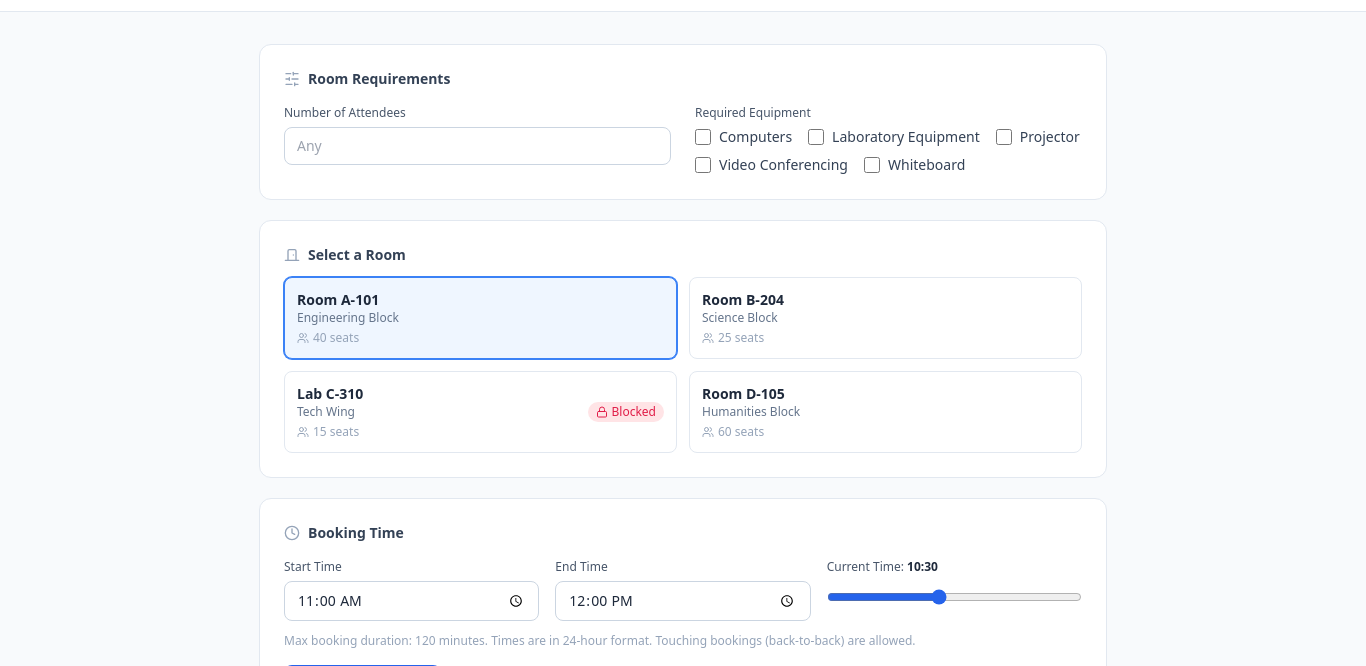
Test: App availability UI › U01 — filtering by 20 attendees and Whiteboard, then choosing Room B-204, shows it available for 11:00–12:00
This screenshot has width=1366, height=666.
Type "20" into the number field labelled "Number of Attendees" at (478, 146), box x1=284 y1=127 x2=671 y2=165
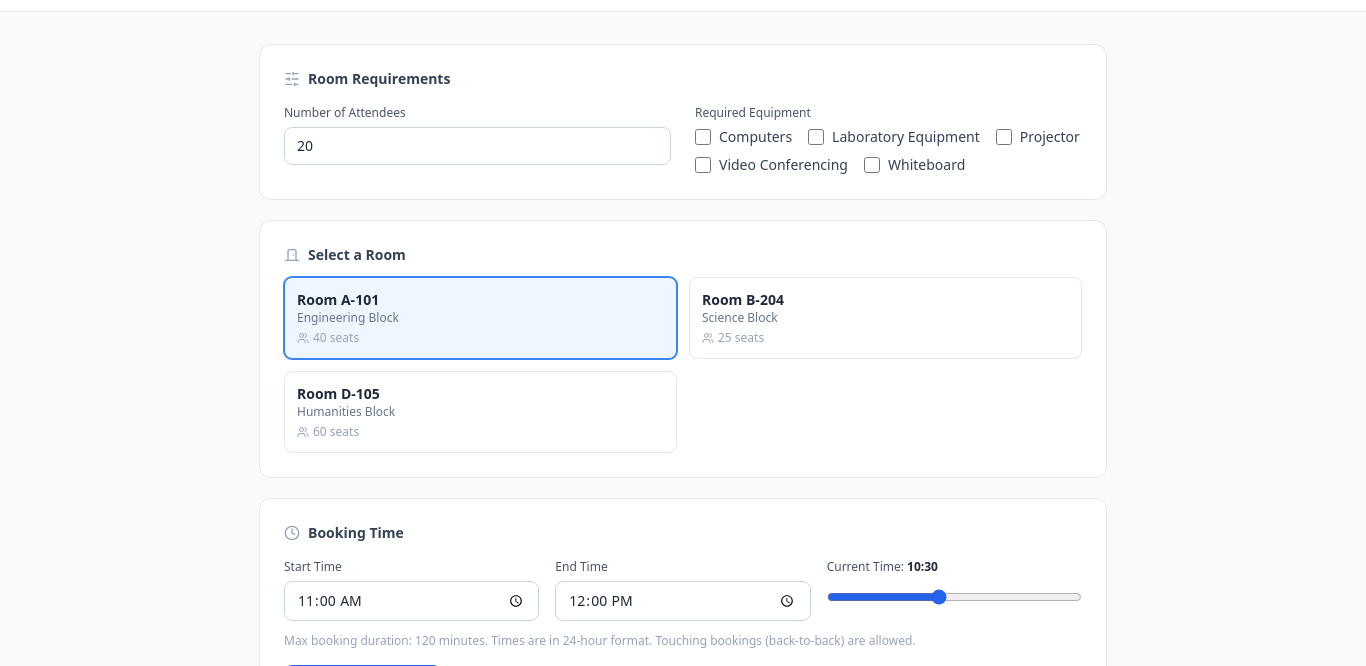
Click the checkbox labelled "Whiteboard" at (872, 165), box x1=864 y1=157 x2=880 y2=173
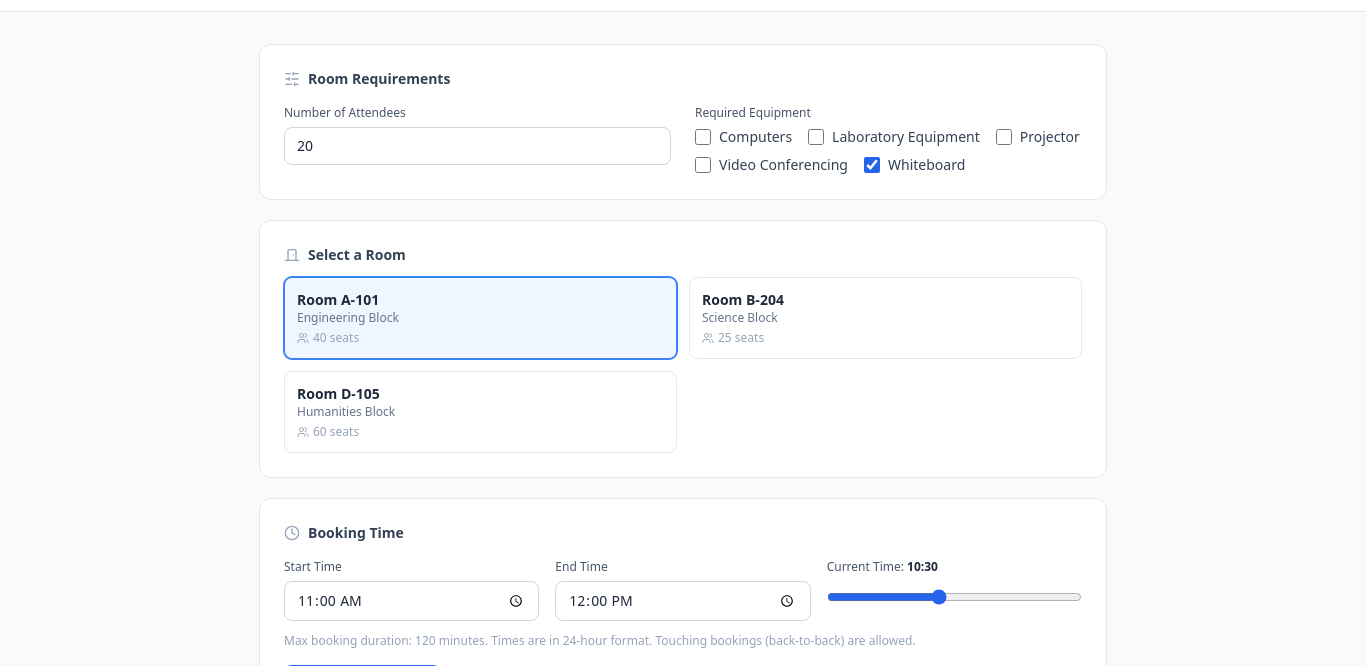
Click the button "Room B-204 Science Block 25 seats" at (743, 300), box x1=689 y1=277 x2=1082 y2=359
(page scrolled)
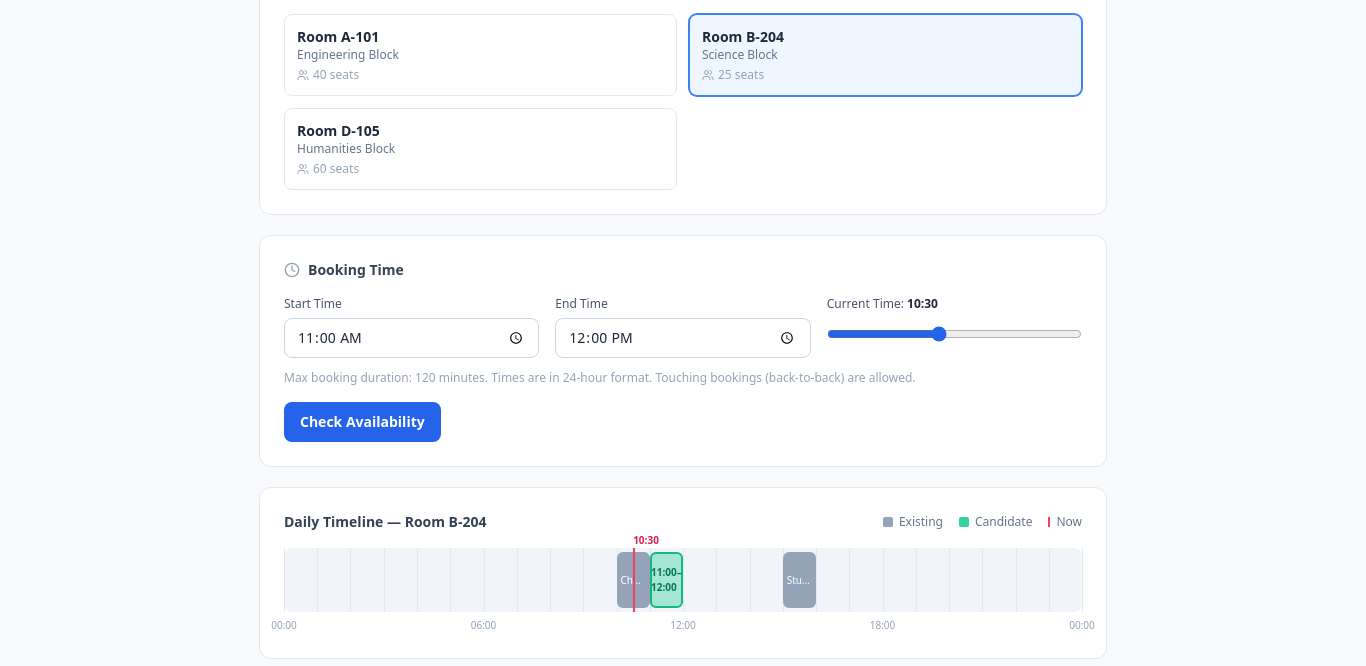
Click the button "Check Availability" at (362, 422), box x1=284 y1=402 x2=441 y2=442
(page scrolled)
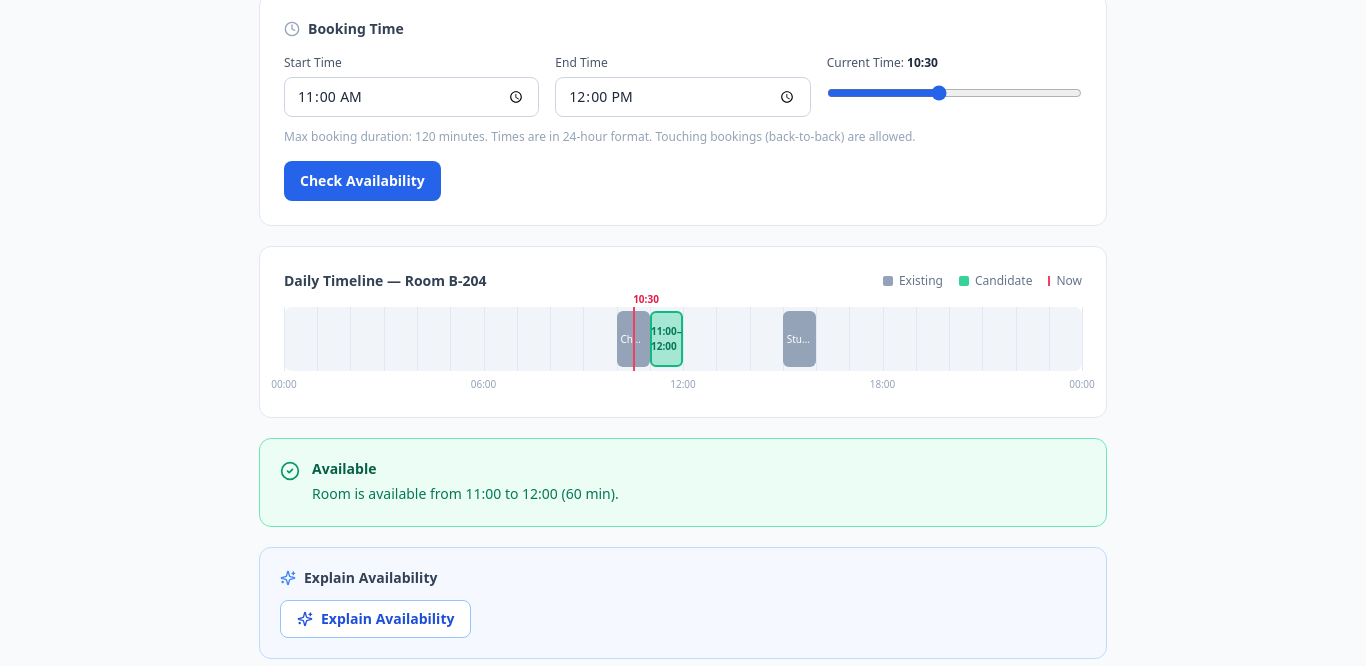
Check: the text "Room is available from 11:00 to 12:00 (60 min)." is shown, box x1=312 y1=483 x2=619 y2=506
